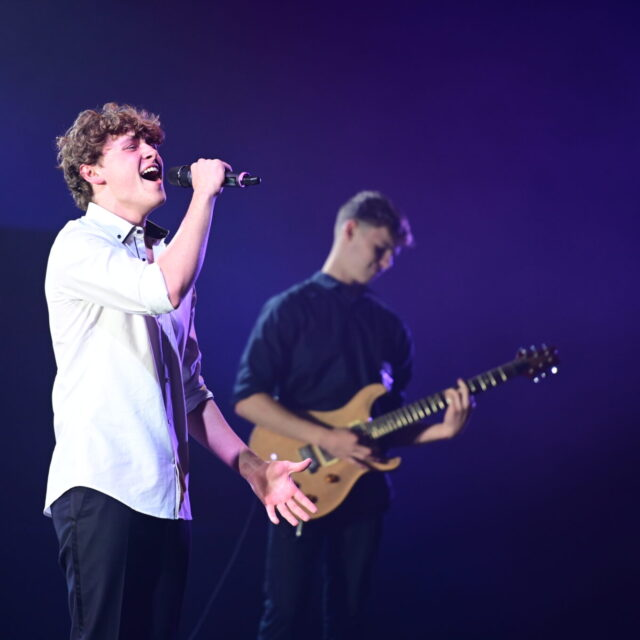human: (57, 118, 173, 218)
